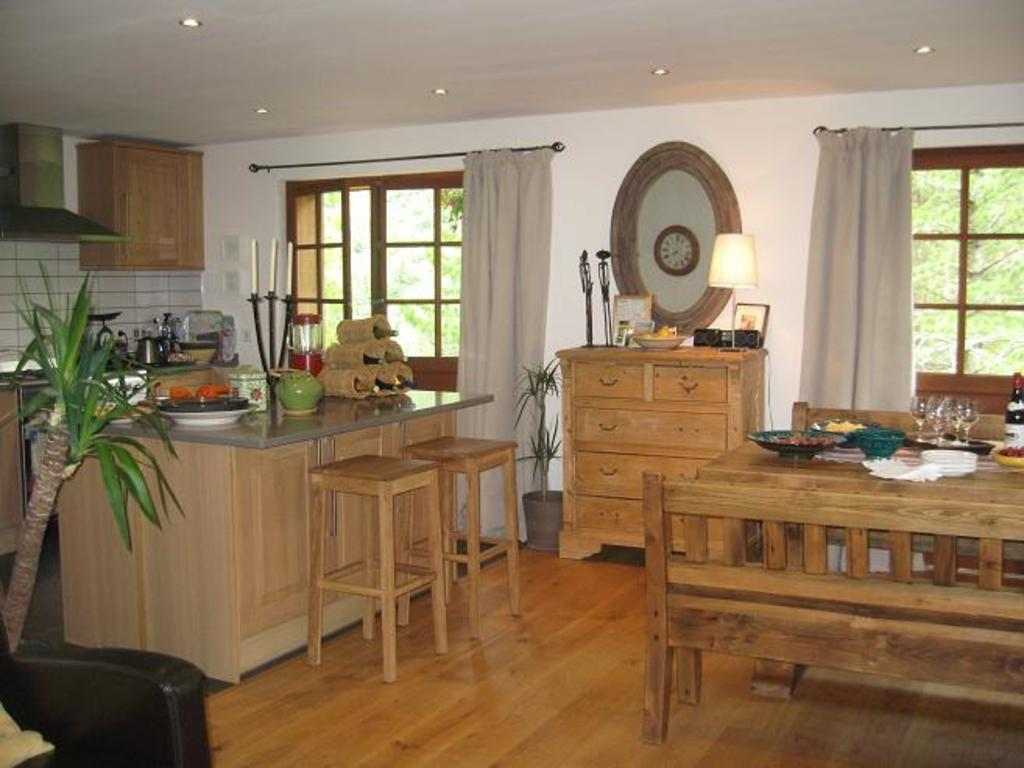cabinet_door: (248, 460, 321, 622), (328, 437, 376, 577), (578, 406, 722, 452), (580, 453, 683, 495), (654, 371, 726, 401), (574, 364, 648, 392)
handle: (329, 442, 347, 540), (314, 442, 332, 520), (667, 374, 705, 392), (594, 366, 620, 392), (592, 417, 622, 435), (599, 465, 625, 478)
